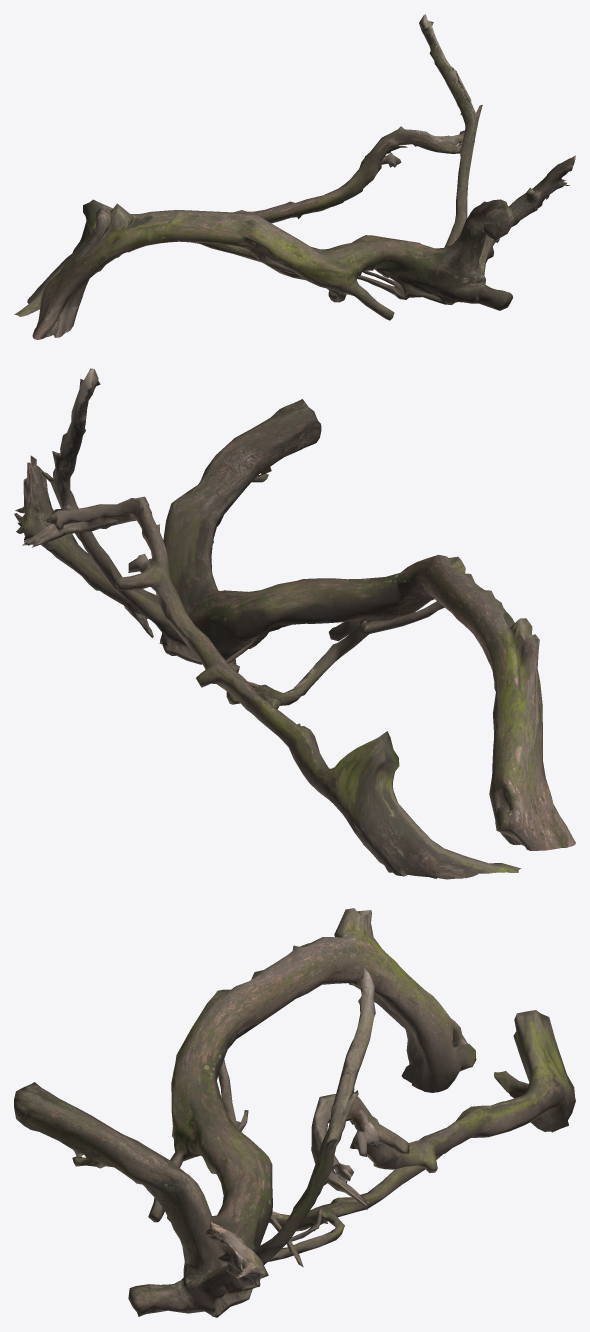
File: SM_Roots_01_04.fbx
The picture shows the model from 3 angles, top to bottom: view 1: azimuth 30°, elevation 25°; view 2: azimuth 150°, elevation 25°; view 3: azimuth 270°, elevation 25°; orthographic projection. The views are drawn at different scales.
Parts seen in each view (by area): view 1: sm_Roots_01_04_LOD0; view 2: sm_Roots_01_04_LOD0; view 3: sm_Roots_01_04_LOD0.
Boxes of the visible parts, bbox=[...] form: sm_Roots_01_04_LOD0: bbox=[14, 14, 575, 339]; sm_Roots_01_04_LOD0: bbox=[14, 368, 575, 879]; sm_Roots_01_04_LOD0: bbox=[14, 908, 575, 1317].
Bounding box in the file's own units: 116 × 164 × 83.06.
